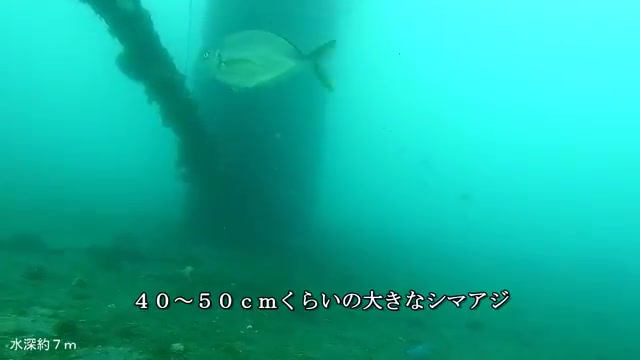hamati: (186, 26, 347, 103)
